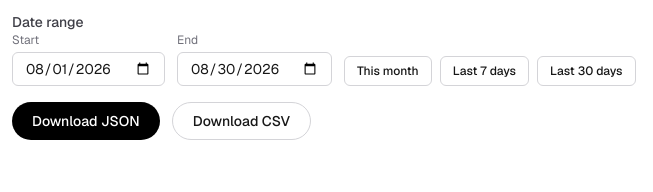
Test case: ExportActions › shows backend errors to the operator
Click the button "Download JSON" at point(86, 121), box 12,102 -> 160,140
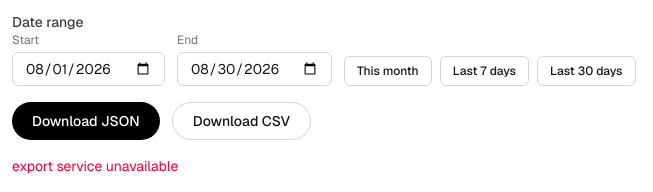
Result: the message reads "export service unavailable" at 12,157 -> 178,175
